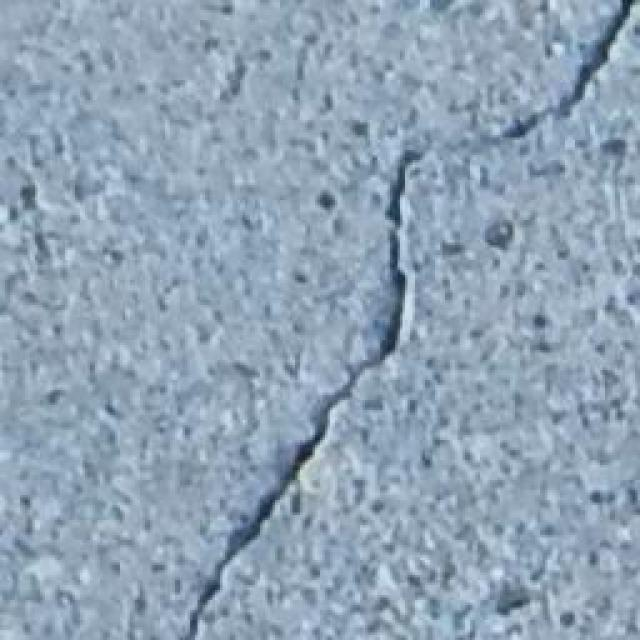concrete-crack: (182, 150, 422, 640), (490, 0, 638, 140)
